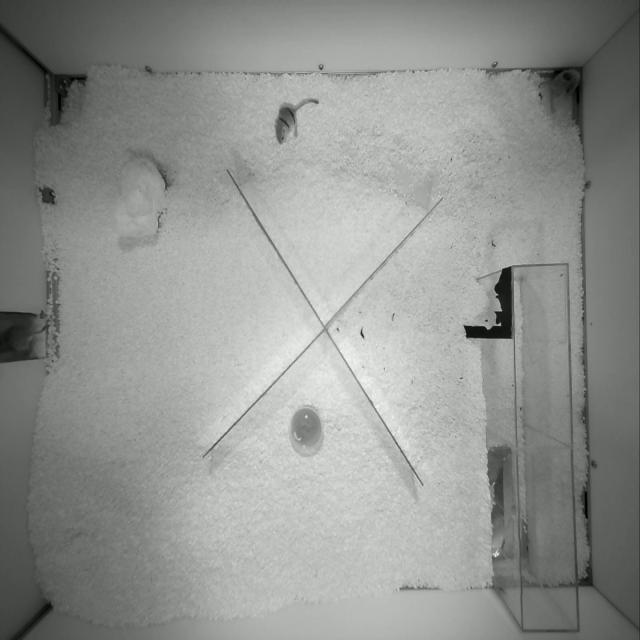pup_fluffy: (0, 324, 46, 355)
pup_h_stripe: (275, 98, 319, 143)
pup_spotted: (540, 69, 580, 112)
